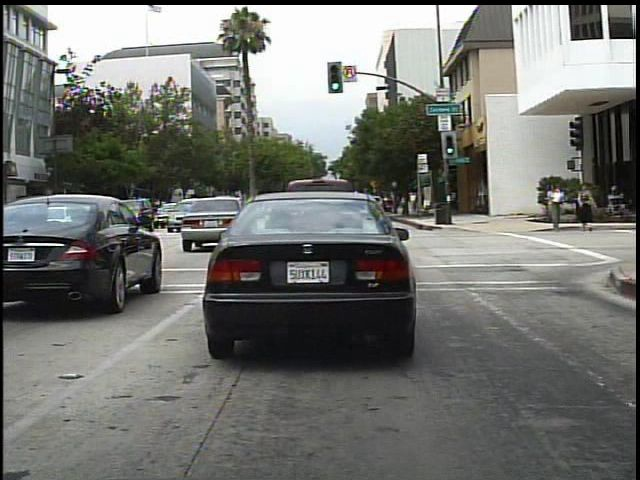person: (544, 178, 570, 234), (574, 179, 599, 233), (405, 188, 422, 219)
